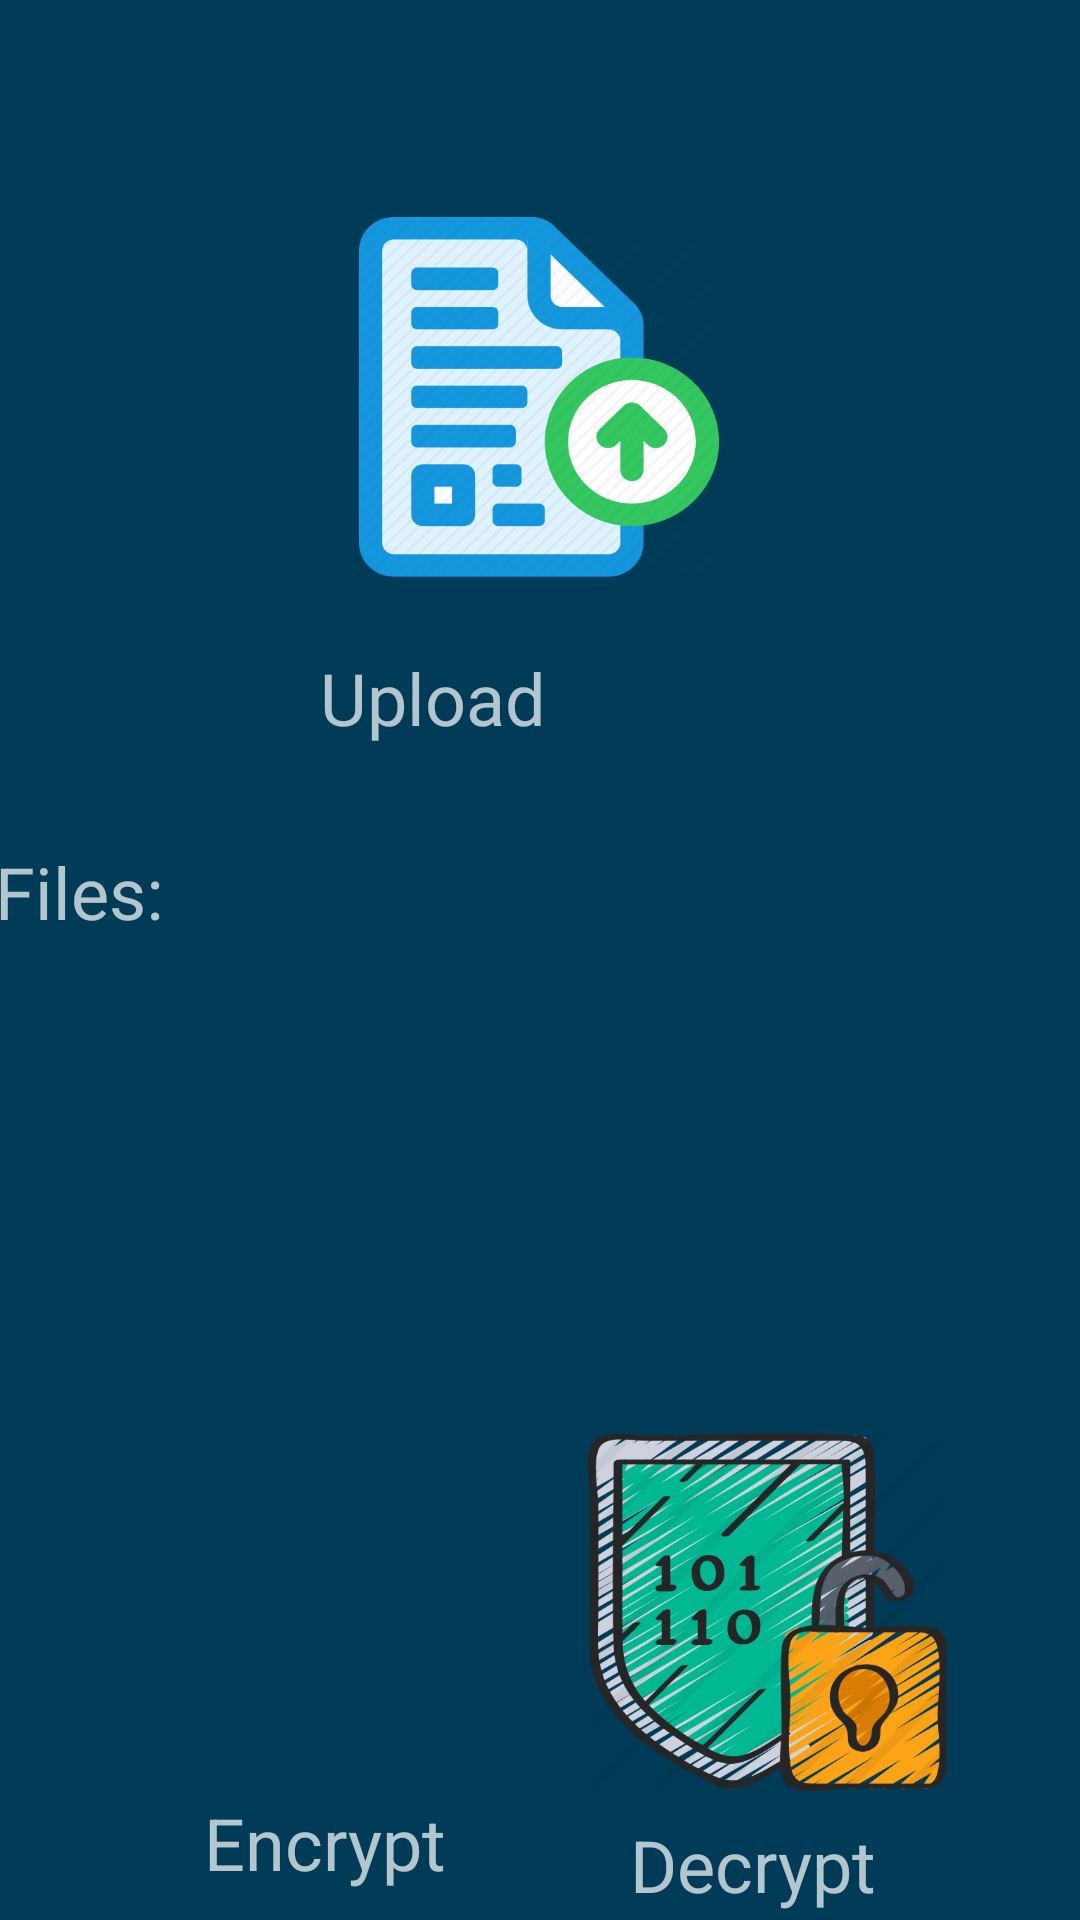

Screen size 1080px x 1920px. Icon name, then its box in pixels as (x1, y1, x2, y2):
file: (359, 217, 719, 577)
unloc: (588, 1434, 947, 1791)
